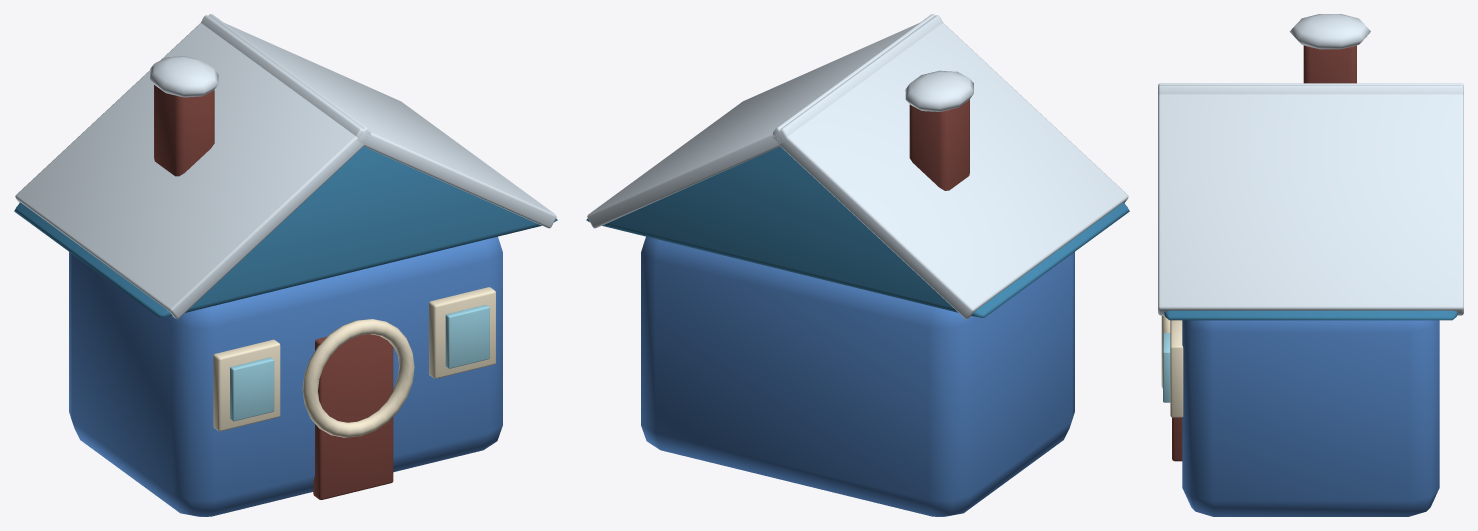
The model's file is r086_development_northern_kingdom_additions_northern_07.glb.
3 renders of one model, left to right at view 1: azimuth 30°, elevation 25°; view 2: azimuth 150°, elevation 25°; view 3: azimuth 270°, elevation 25°, orthographic. The views are drawn at different scales.
Parts seen in each view (by area): view 1: r086_development_northern_kingdom_additions_northern_07.001; view 2: r086_development_northern_kingdom_additions_northern_07.001; view 3: r086_development_northern_kingdom_additions_northern_07.001.
Boxes of the visible parts, x1,y1,x2,y2 form: r086_development_northern_kingdom_additions_northern_07.001: (14,14,557,516); r086_development_northern_kingdom_additions_northern_07.001: (586,14,1129,516); r086_development_northern_kingdom_additions_northern_07.001: (1158,14,1463,516).
Bounding box in the file's own units: 4.63 × 4.41 × 3.15.
